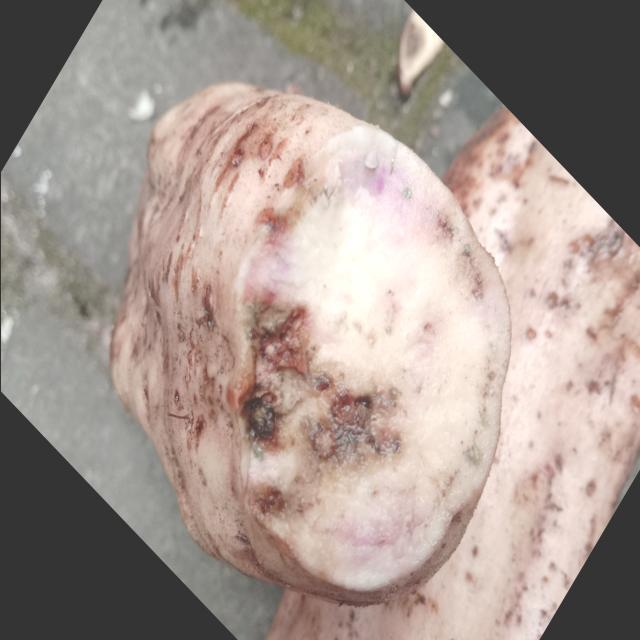Sick Sweet Potato_Tuber Rot: (229, 123, 510, 598)
